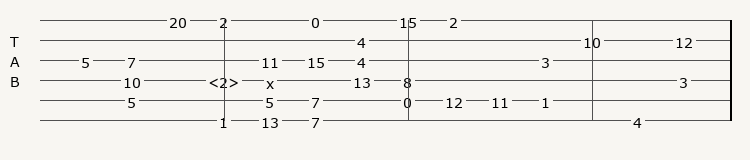0: (311, 13, 324, 27), (403, 93, 416, 107)
1: (219, 113, 232, 127), (541, 93, 554, 107)
10: (123, 73, 145, 87), (583, 33, 605, 47)
11: (261, 53, 283, 67), (491, 93, 513, 107)
12: (445, 93, 467, 107), (675, 33, 697, 47)
13: (261, 113, 283, 127), (353, 73, 375, 87)
15: (307, 53, 329, 67), (399, 13, 421, 27)
2: (219, 13, 232, 27), (449, 13, 462, 27)
20: (169, 13, 191, 27)
3: (541, 53, 554, 67), (679, 73, 692, 87)
4: (357, 33, 370, 47), (357, 53, 370, 67), (633, 113, 646, 127)
5: (81, 53, 94, 67), (127, 93, 140, 107), (265, 93, 278, 107)
7: (127, 53, 140, 67), (311, 113, 324, 127), (311, 93, 324, 107)
8: (403, 73, 416, 87)
harmonic: (208, 73, 243, 87)
x: (266, 74, 278, 86)
